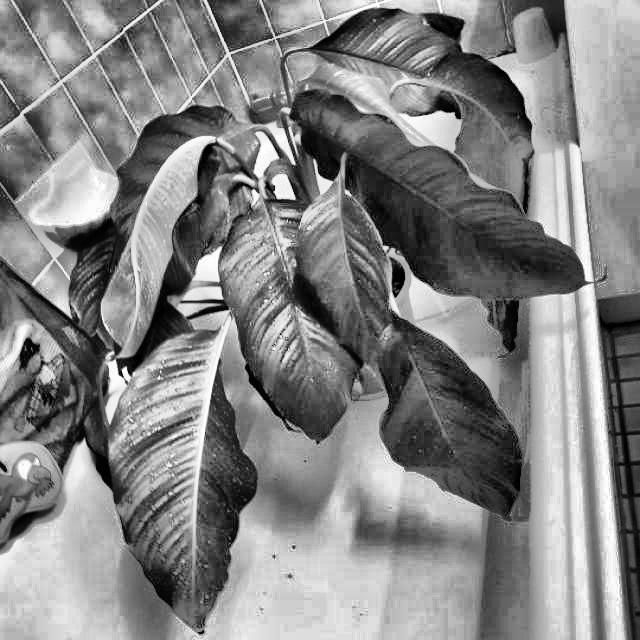plants: (82, 4, 606, 635), (269, 8, 531, 208), (468, 270, 543, 360)
